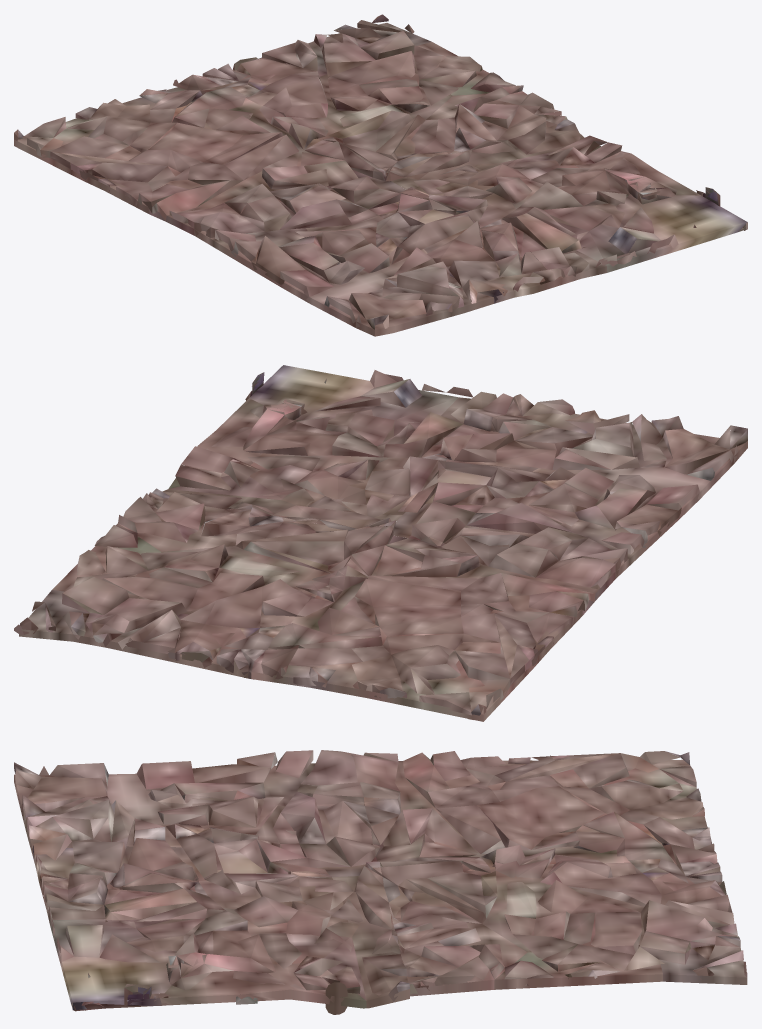
3 views of the same model, one above another, from view 1: azimuth 30°, elevation 25°; view 2: azimuth 150°, elevation 25°; view 3: azimuth 270°, elevation 25° (orthographic). The views are drawn at different scales.
Visible parts, largest first — view 1: Mesh_0; view 2: Mesh_0; view 3: Mesh_0.
Boxes of the visible parts, x1,y1,x2,y2 form: Mesh_0: [14, 14, 747, 336]; Mesh_0: [14, 365, 747, 721]; Mesh_0: [14, 750, 747, 1014].
Size of the model in its own units: 1065 by 94.2 by 1319.
Materials: 2 (2 with a texture image).
